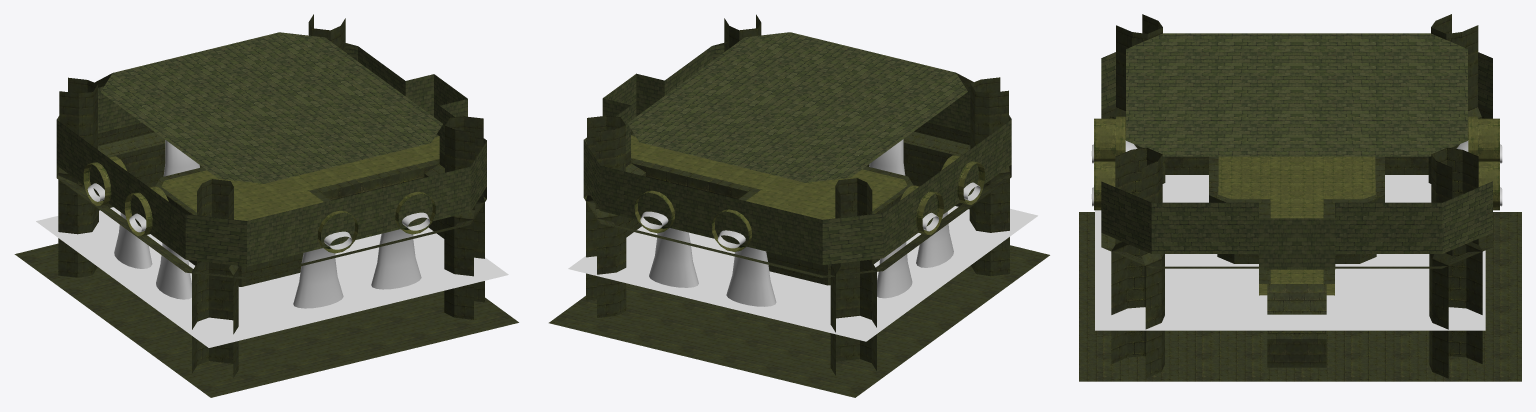
File: Sewer_DeadEnd.fbx
The picture shows the model from 3 angles, left to right: view 1: azimuth 30°, elevation 25°; view 2: azimuth 150°, elevation 25°; view 3: azimuth 270°, elevation 25°; orthographic projection. The views are drawn at different scales.
Parts seen in each view (by area): view 1: Sewer_DeadEnd.wall, Sewer_DeadEnd.floor.2, Sewer_DeadEnd.water, Sewer_DeadEnd.waterfall, Sewer_DeadEnd.floor.main; view 2: Sewer_DeadEnd.wall, Sewer_DeadEnd.floor.2, Sewer_DeadEnd.water, Sewer_DeadEnd.waterfall, Sewer_DeadEnd.floor.main; view 3: Sewer_DeadEnd.wall, Sewer_DeadEnd.floor.2, Sewer_DeadEnd.water, Sewer_DeadEnd.floor.main.
Part boxes in pixels (x1,y1,x2,y2): Sewer_DeadEnd.wall: [56, 14, 486, 377]; Sewer_DeadEnd.floor.2: [14, 164, 518, 397]; Sewer_DeadEnd.water: [36, 207, 508, 347]; Sewer_DeadEnd.waterfall: [87, 140, 430, 308]; Sewer_DeadEnd.floor.main: [155, 134, 439, 220]; Sewer_DeadEnd.wall: [583, 14, 1011, 375]; Sewer_DeadEnd.floor.2: [549, 163, 1049, 397]; Sewer_DeadEnd.water: [568, 206, 1037, 341]; Sewer_DeadEnd.waterfall: [640, 139, 980, 306]; Sewer_DeadEnd.floor.main: [631, 133, 913, 219]; Sewer_DeadEnd.wall: [1094, 14, 1499, 378]; Sewer_DeadEnd.floor.2: [1079, 195, 1521, 381]; Sewer_DeadEnd.water: [1095, 175, 1485, 330]; Sewer_DeadEnd.floor.main: [1209, 156, 1384, 283].
Bounding box in the file's own units: 3351 × 1772 × 3381.
